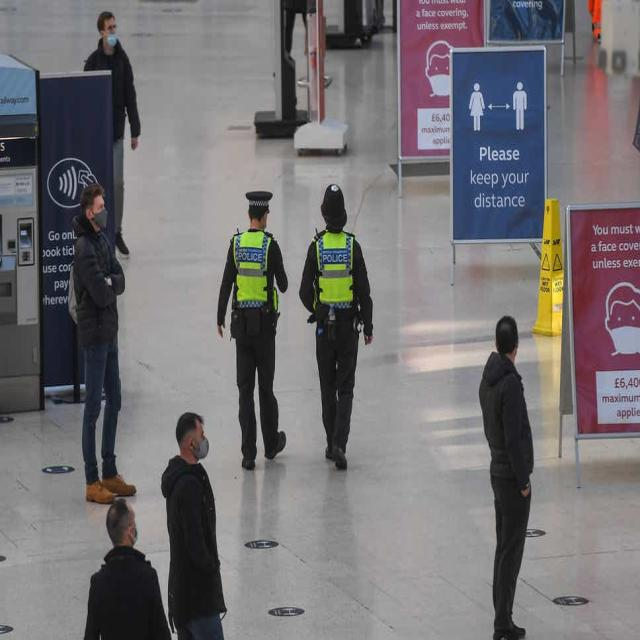police: (194, 172, 291, 469), (292, 172, 377, 476)
